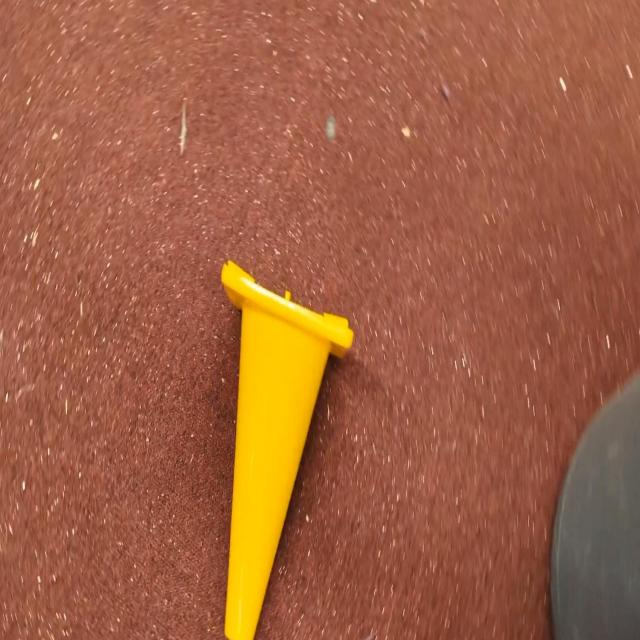frc_cone: (214, 259, 352, 639)
